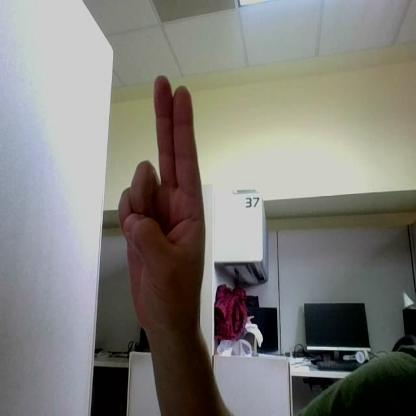U: (118, 76, 206, 326)
